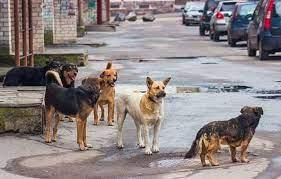normal_dogs: (188, 95, 267, 170), (118, 74, 178, 156), (44, 69, 104, 150), (0, 60, 81, 102), (86, 60, 126, 125)
